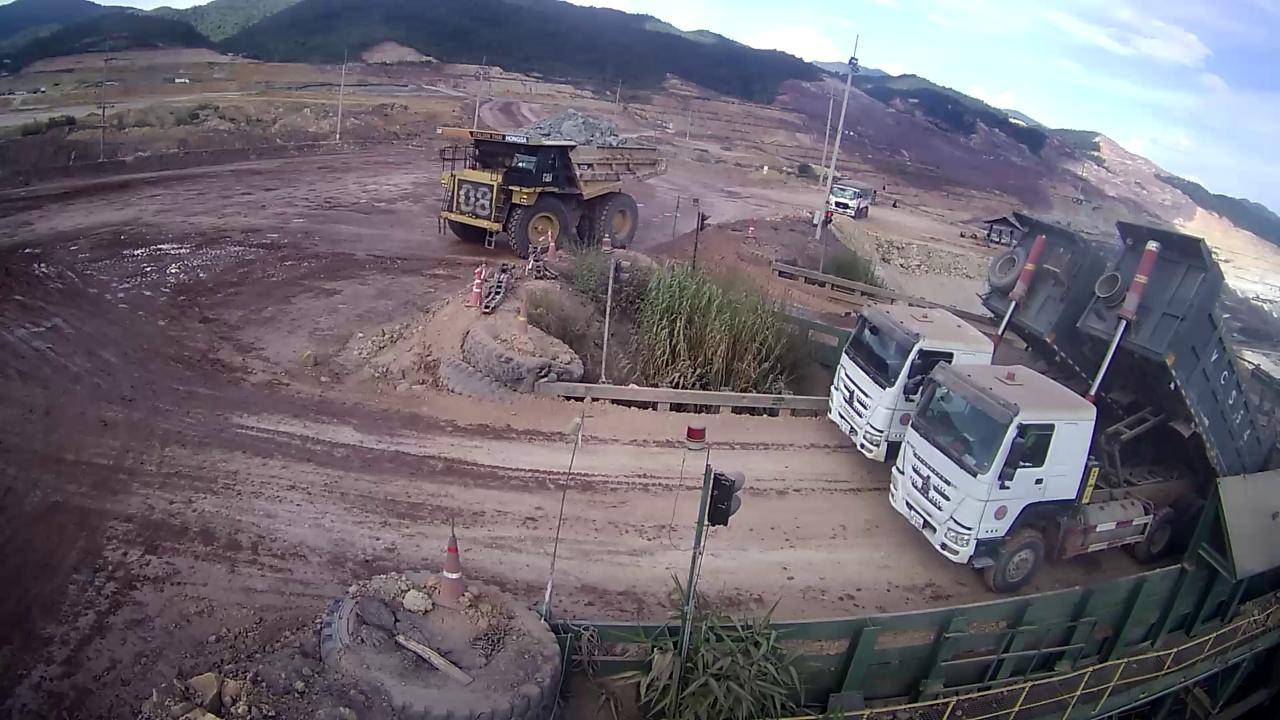front_number: (455, 180, 492, 219)
full_load: (522, 108, 644, 151)
mining_truck: (432, 103, 675, 261)
